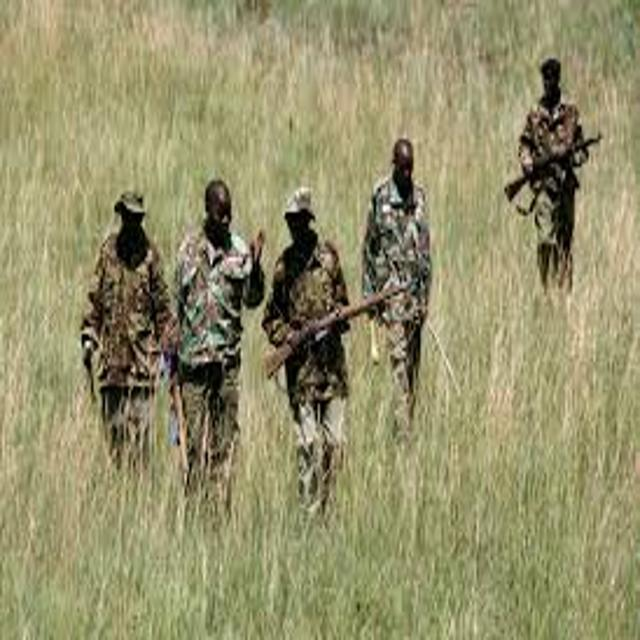gun: (236, 268, 435, 399), (470, 123, 627, 225)
ranger: (233, 165, 410, 553), (131, 149, 289, 528), (325, 117, 472, 477), (53, 166, 193, 504), (478, 45, 625, 323)
